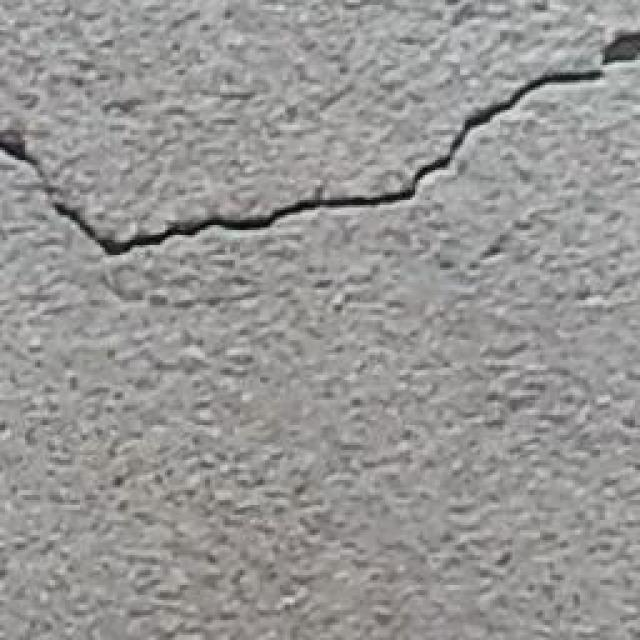concrete-crack: (0, 70, 600, 256), (604, 33, 640, 68)
